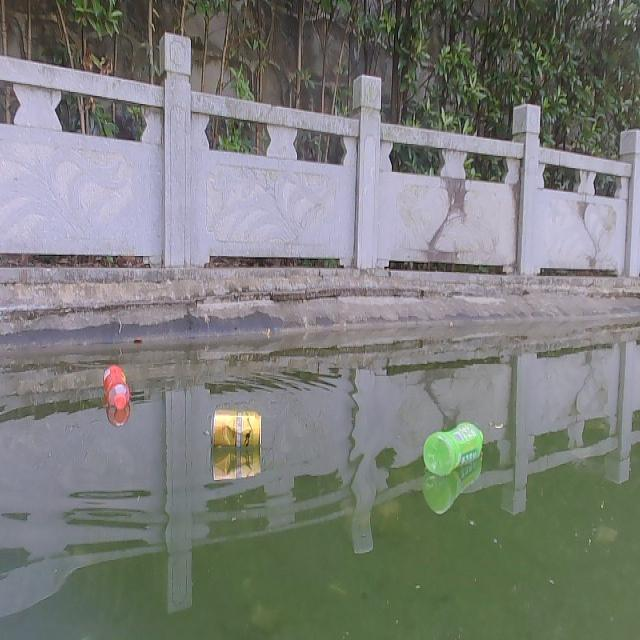Bottle: (421, 419, 486, 473), (101, 362, 132, 414)
Can: (208, 406, 262, 451)
